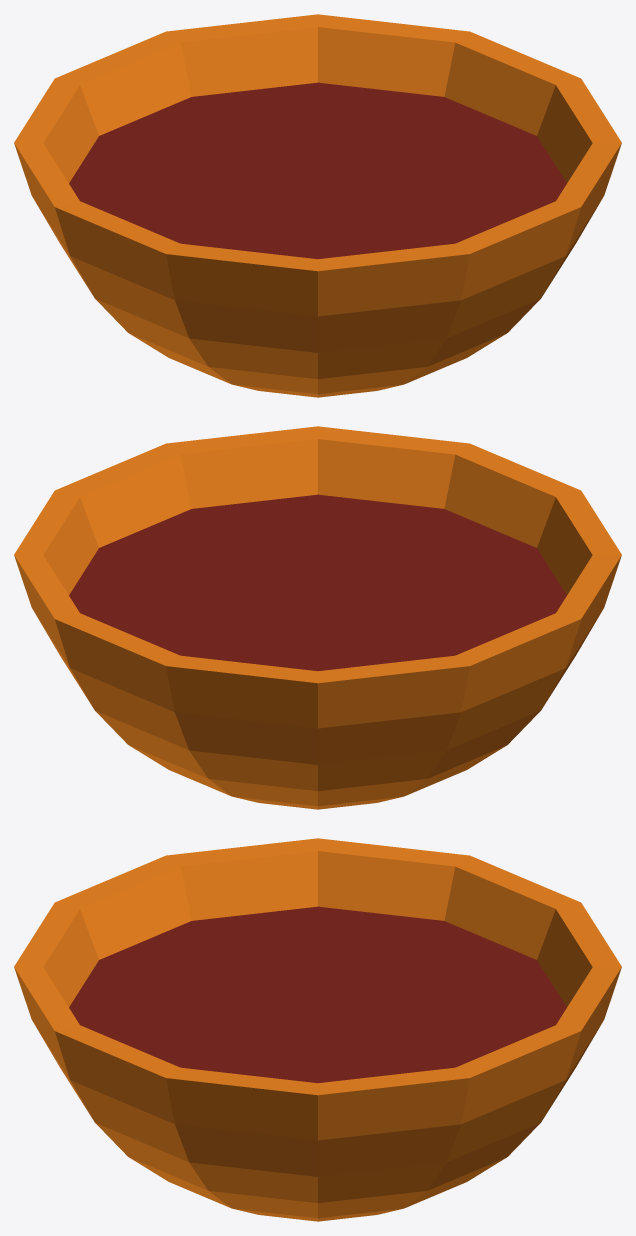
File: Soap_Plate_03.fbx
The picture shows the model from 3 angles, top to bottom: view 1: azimuth 30°, elevation 25°; view 2: azimuth 150°, elevation 25°; view 3: azimuth 270°, elevation 25°; orthographic projection.
Visible parts, largest first — view 1: Soap_Plate_03_LOD0; view 2: Soap_Plate_03_LOD0; view 3: Soap_Plate_03_LOD0.
Part boxes in pixels (left/top/right/bottom): Soap_Plate_03_LOD0: left=14, top=14, right=621, bottom=397; Soap_Plate_03_LOD0: left=14, top=426, right=621, bottom=809; Soap_Plate_03_LOD0: left=14, top=838, right=621, bottom=1221.
Size of what is drawn, in the model's own units: 0.2799 by 0.1149 by 0.2799.
